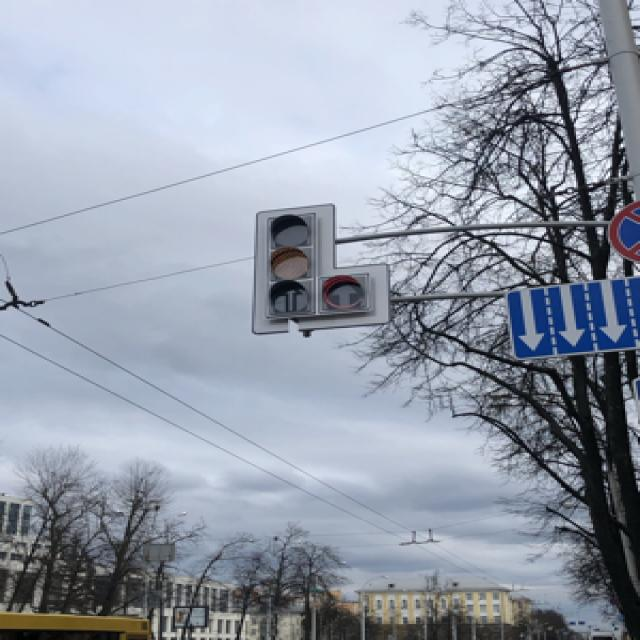trafficlight: (260, 210, 374, 322)
